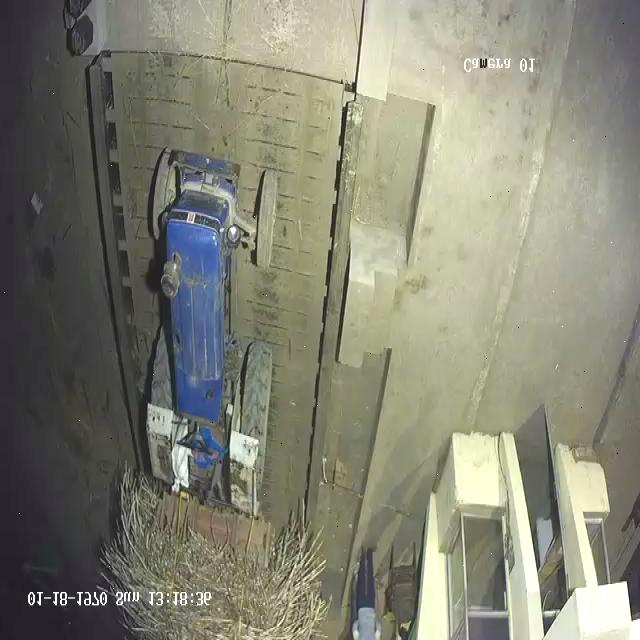Tratores - v5 YOLO V8L 2024-11-13: (134, 149, 289, 513)
